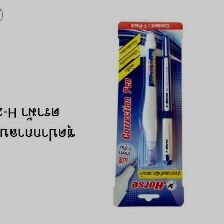book: (111, 19, 185, 209)
correction_fluid: (139, 30, 160, 168)
